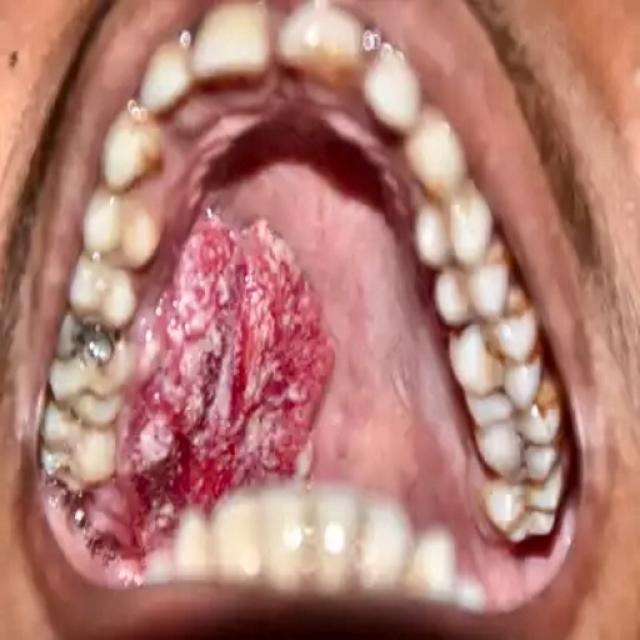cancer-detection: (110, 204, 341, 561)
processing_area: (47, 82, 568, 609)
